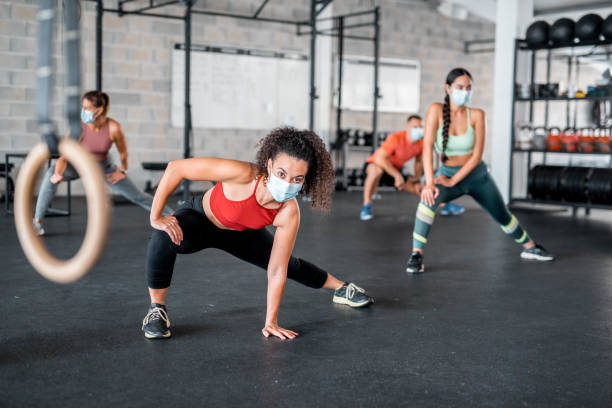with mask: (434, 54, 486, 123), (266, 148, 313, 206), (73, 85, 114, 129), (395, 106, 436, 150)
